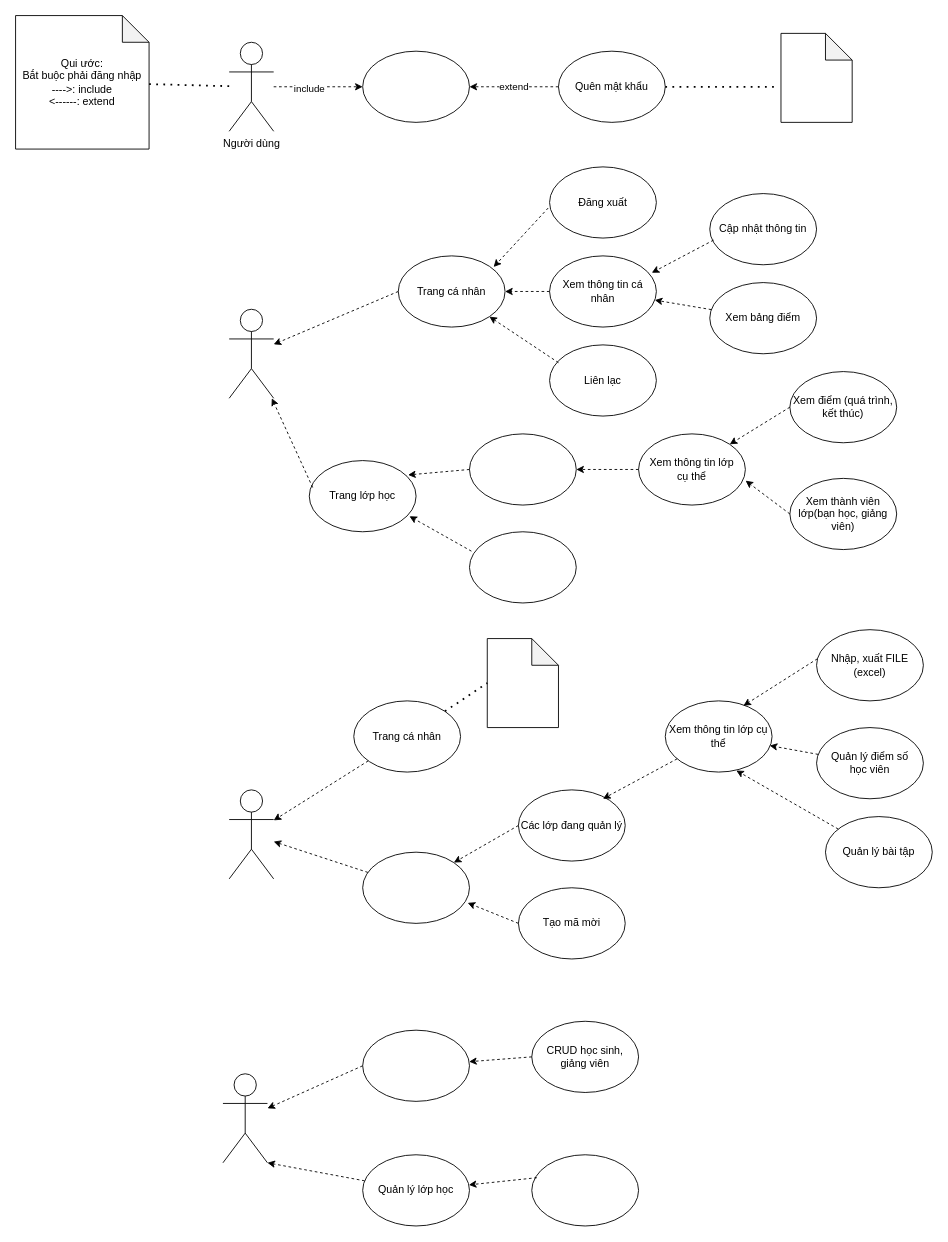
Some shapes in this 948 by 1242 pixel diagram are drawn without their labels. The shapes that lost their labels are listed below. From the top down, each one's centre as x and y in pixels, then its label:
At point (415, 86): "Đăng nhập".
At point (816, 77): "Không có đăng ký, tk được cấp".
At point (251, 353): "Student".
At point (522, 469): "Danh sách lớp đã tham gia".
At point (522, 567): "Nhập mã mời".
At point (522, 683): "Tương tự thằng học sinh".
At point (251, 834): "Giảng viên".
At point (415, 887): "Trang quản lý lớp".
At point (415, 1065): "Quản lý người dùng".
At point (244, 1118): "Admin".
At point (585, 1190): "Kick/Ban, Add to class".
